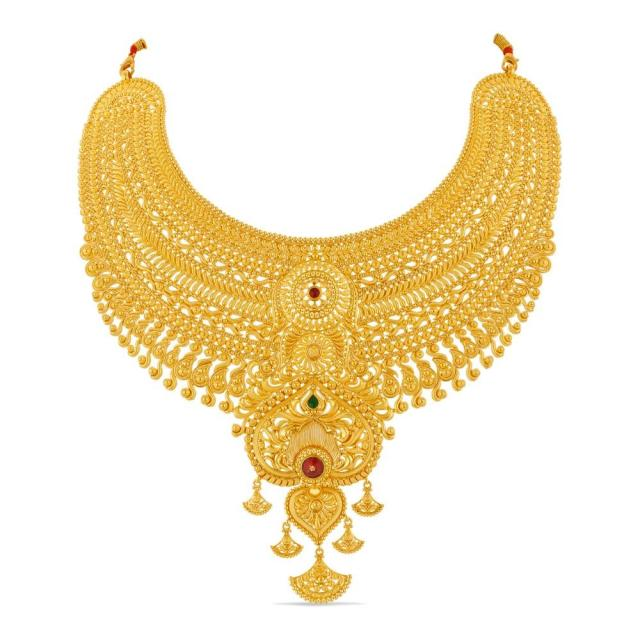missing gem: (307, 345, 320, 358), (311, 500, 321, 513)
